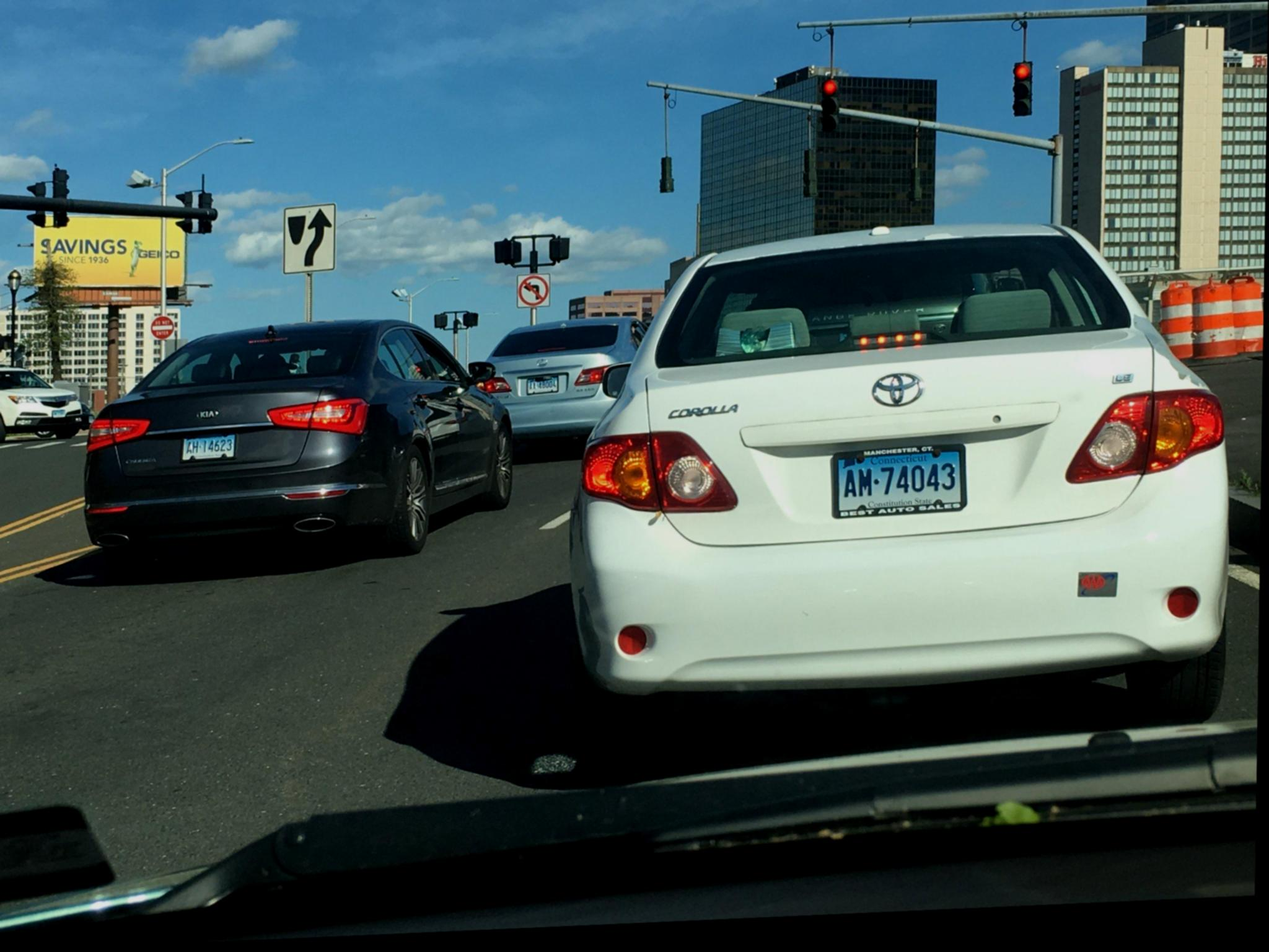License_Plate: (838, 447, 970, 518)
